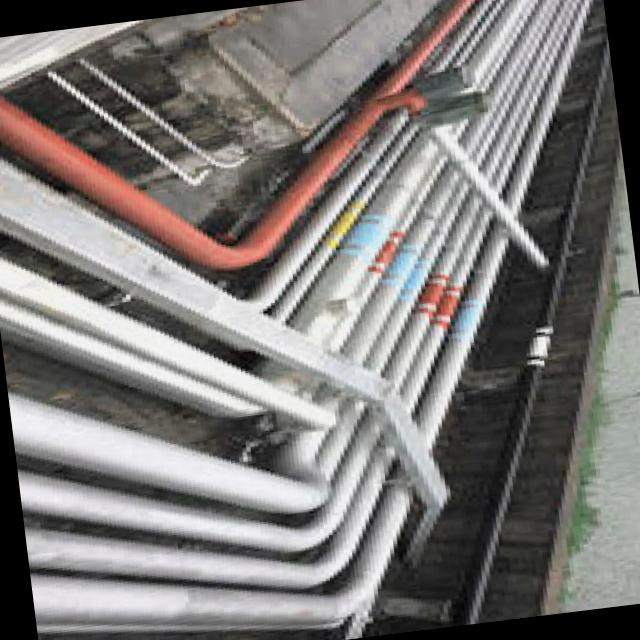gas: (0, 0, 590, 640)
